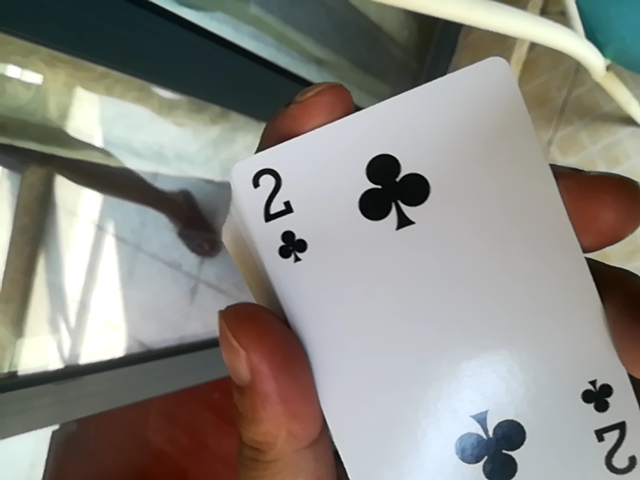mh 2: (220, 53, 637, 480)
